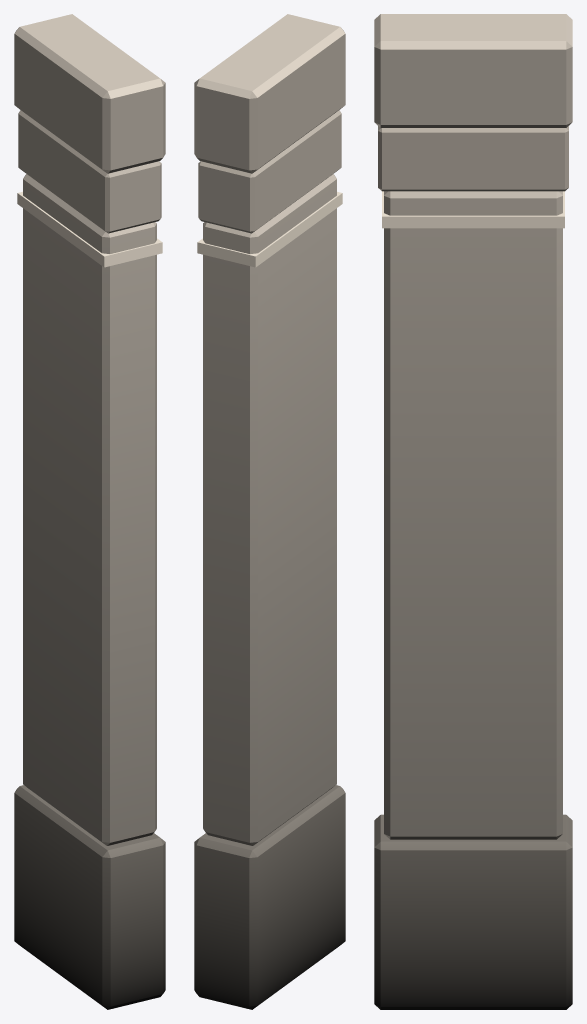
The model's file is SM_VKI_Post_Dwarf_Mid_Full.fbx.
3 views of the same model, side by side, from view 1: azimuth 30°, elevation 25°; view 2: azimuth 150°, elevation 25°; view 3: azimuth 270°, elevation 25° (orthographic). The views are drawn at different scales.
Visible parts, largest first — view 1: SM_VKI_Post_Dwarf_Mid_Full.001; view 2: SM_VKI_Post_Dwarf_Mid_Full.001; view 3: SM_VKI_Post_Dwarf_Mid_Full.001.
Part boxes in pixels (<box>): SM_VKI_Post_Dwarf_Mid_Full.001: <box>14,14,165,1009</box>; SM_VKI_Post_Dwarf_Mid_Full.001: <box>194,14,345,1009</box>; SM_VKI_Post_Dwarf_Mid_Full.001: <box>374,14,572,1009</box>.
Size of the model in its own units: 0.24 by 3.34 by 0.62.
